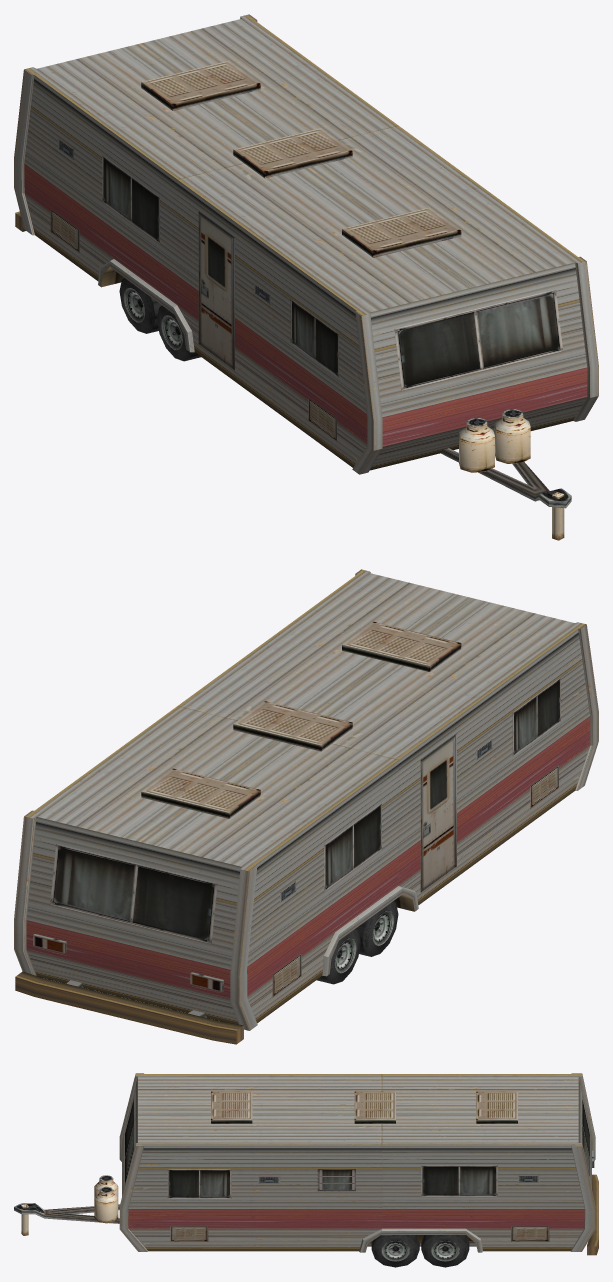
Rendered from rural_trailerh_1_rural_trailer_stuff_1_0.glb.
3 views of the same model, one above another, from view 1: azimuth 30°, elevation 25°; view 2: azimuth 150°, elevation 25°; view 3: azimuth 270°, elevation 25° (orthographic). The views are drawn at different scales.
Visible parts, largest first — view 1: Rural_TrailerH_1_Rural_Trailer_Stuff_1_0; view 2: Rural_TrailerH_1_Rural_Trailer_Stuff_1_0; view 3: Rural_TrailerH_1_Rural_Trailer_Stuff_1_0.
Boxes of the visible parts, x1,y1,x2,y2 form: Rural_TrailerH_1_Rural_Trailer_Stuff_1_0: (14,14,598,540); Rural_TrailerH_1_Rural_Trailer_Stuff_1_0: (14,569,598,1044); Rural_TrailerH_1_Rural_Trailer_Stuff_1_0: (14,1073,598,1267).
Bounding box in the file's own units: 2.1 × 1.7 × 7.02.
1 material, 1 textured.
